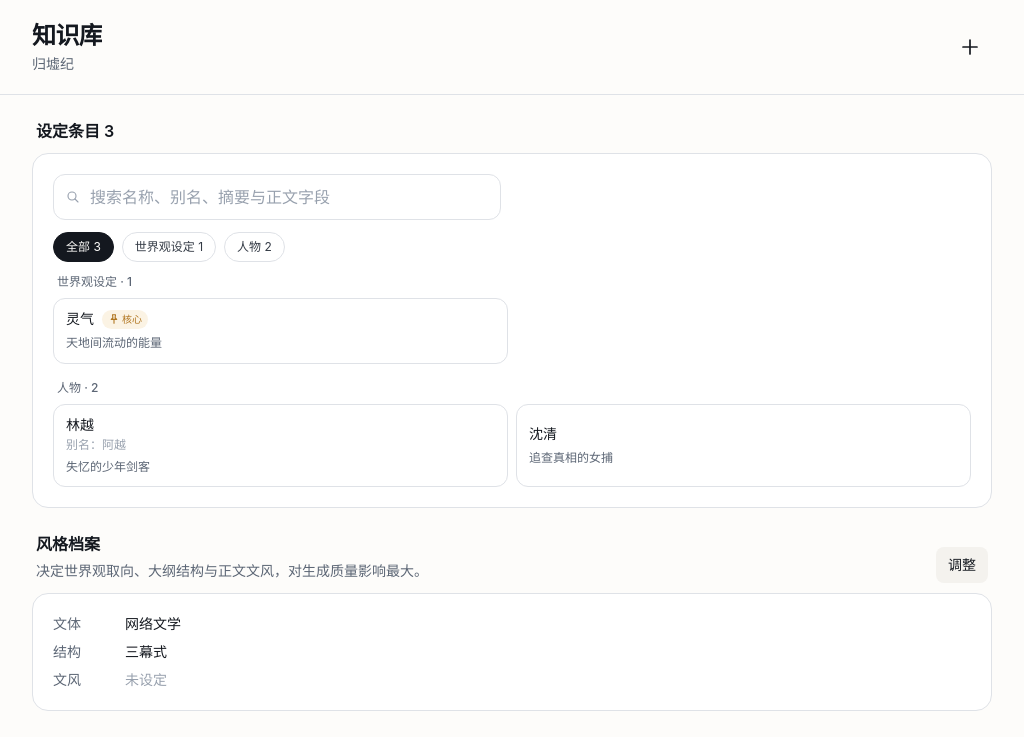
it: 条目列表 › 搜索覆盖标题、别名、摘要与字段值
Type "阿越" into the search field named "搜索条目" at {"x": 277, "y": 197}, box [53,174,501,220]
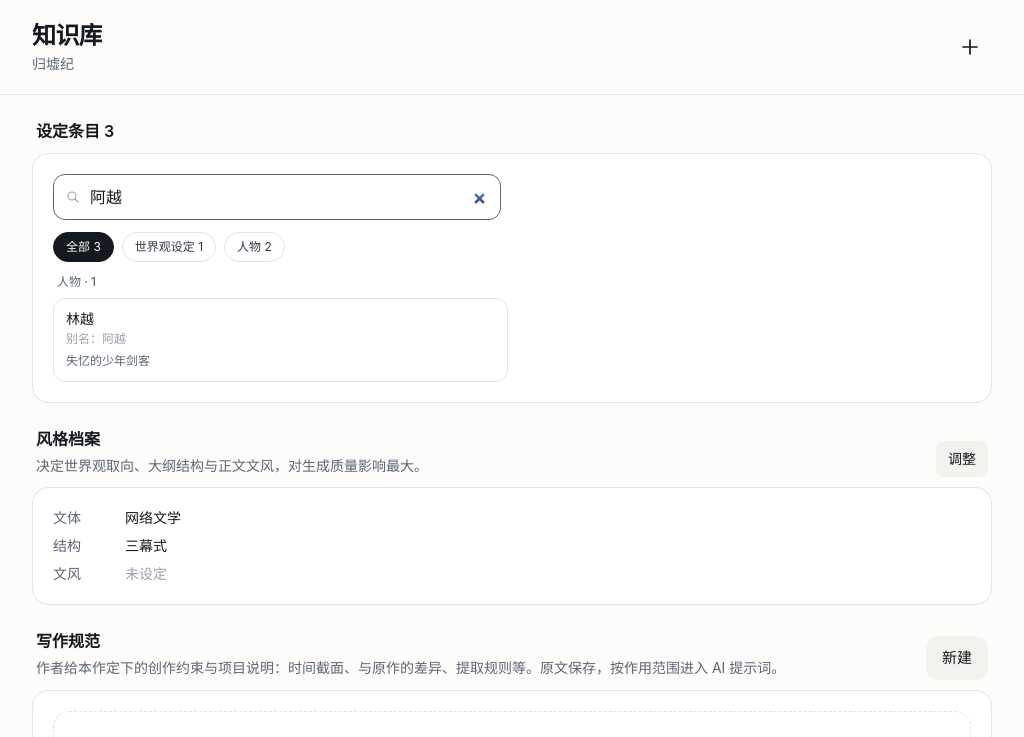
Expected: the text "林越" is shown, [66,309,94,329]
Expected: the button "沈清" is gone
Replace the text in the search field named "搜索条目" with "浓度" at {"x": 277, "y": 197}, box [53,174,501,220]
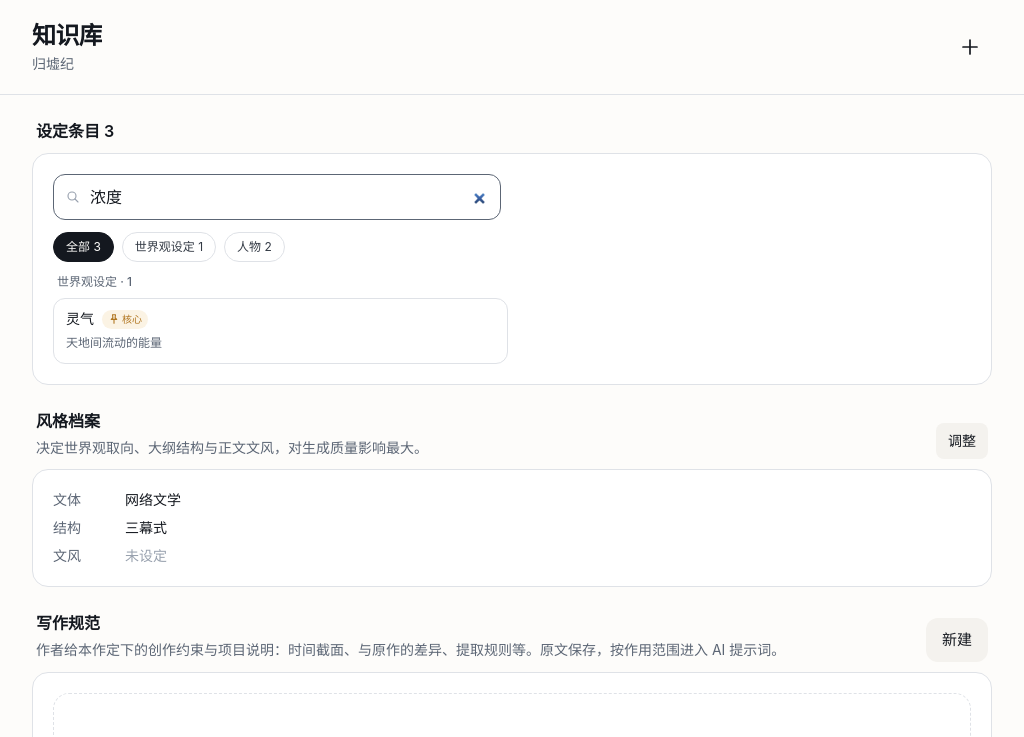
Expected: the text "灵气" is shown, [66,309,94,329]
Expected: the button "林越" is gone
